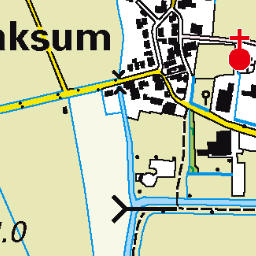church: (226, 27, 253, 74)
